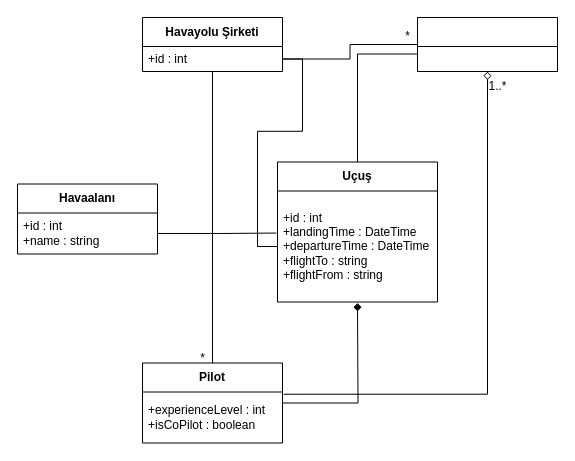
This 575x461 diagram has some shape labels left out. The shapes that lost their labels are listed below. From the top down, each one's box as (x1, y1, x2, y2) in pixels, then its label:
(416, 16, 558, 72): Uçak
(416, 46, 558, 72): +isWorking : boolean
